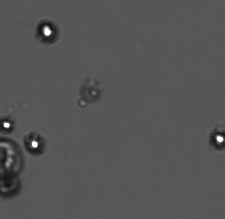Dead Cell: (1, 138, 22, 178), (79, 81, 103, 102), (1, 177, 20, 198)
Living Cell: (37, 21, 57, 40), (25, 134, 44, 152), (211, 129, 225, 150), (1, 118, 14, 131)
